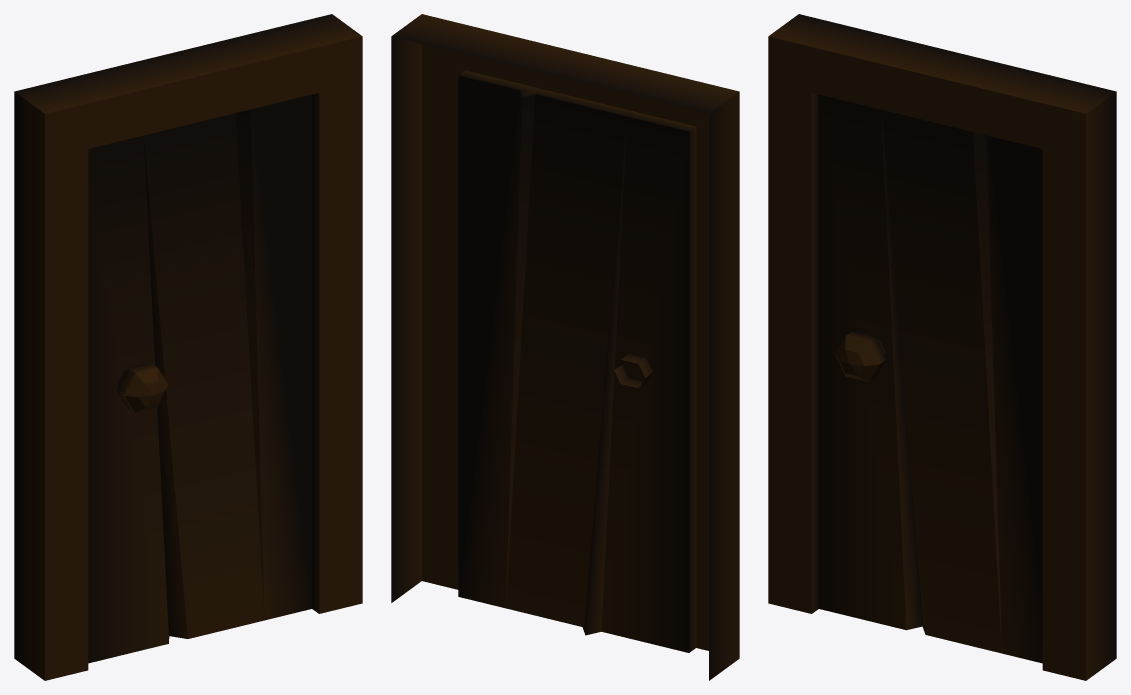
The model's file is door.fbx.
3 views of the same model, side by side, from view 1: azimuth 30°, elevation 25°; view 2: azimuth 150°, elevation 25°; view 3: azimuth 330°, elevation 25° (orthographic).
Parts seen in each view (by area): view 1: Door01; view 2: Door01; view 3: Door01.
Boxes of the visible parts, x1,y1,x2,y2 form: Door01: (14,14,362,680); Door01: (391,14,739,680); Door01: (768,14,1116,680).
Size of the model in its own units: 1.19 by 2.03 by 0.2869.
